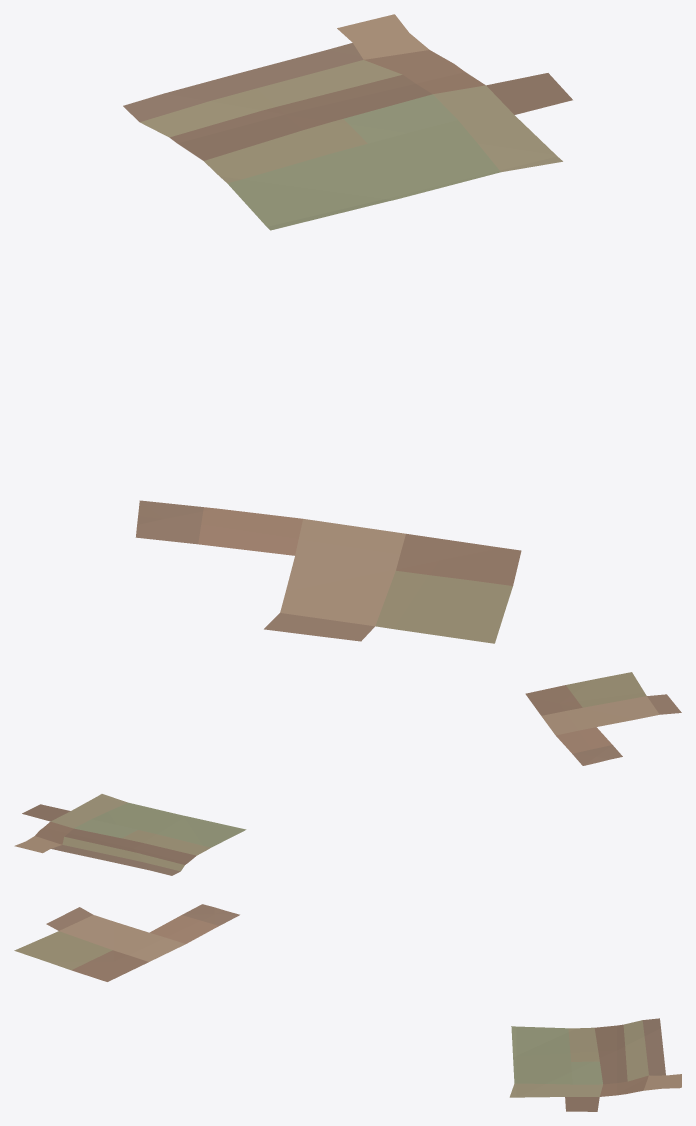
Rendered from farm_8_5_soil.glb.
3 renders of one model, top to bottom at view 1: azimuth 30°, elevation 25°; view 2: azimuth 150°, elevation 25°; view 3: azimuth 270°, elevation 25°, orthographic. The views are drawn at different scales.
Visible parts, largest first — view 1: geometry_0; view 2: geometry_0; view 3: geometry_0.
Boxes of the visible parts, x1,y1,x2,y2 form: geometry_0: (123, 14, 572, 643); geometry_0: (14, 672, 681, 875); geometry_0: (14, 904, 681, 1111).
Size of the model in its own units: 371 by 12.71 by 531.
